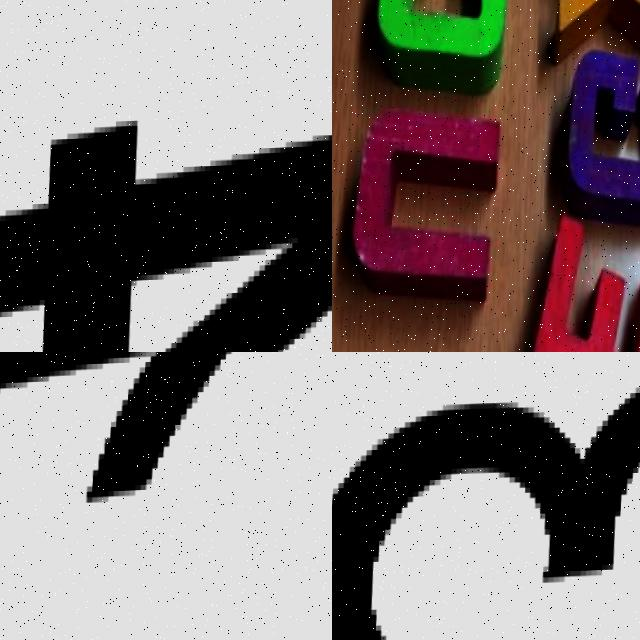1: (0, 352, 315, 524)
3: (332, 364, 640, 640)
C: (366, 0, 527, 89)
E: (529, 218, 640, 352)
G: (549, 45, 640, 222)
U: (337, 84, 519, 315)
X: (539, 0, 640, 68)
